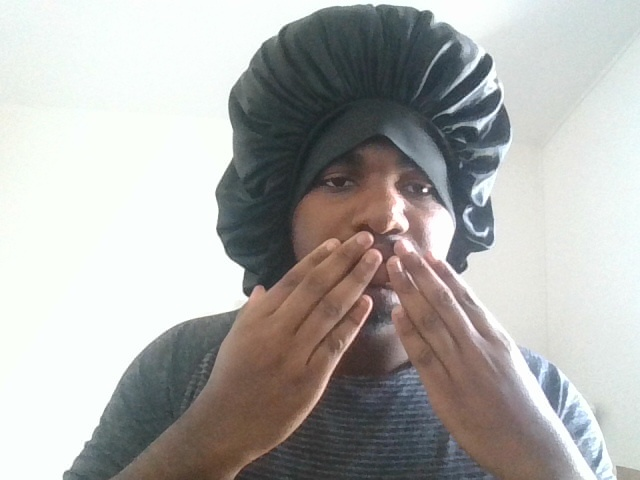Thank You: (97, 201, 640, 480)
